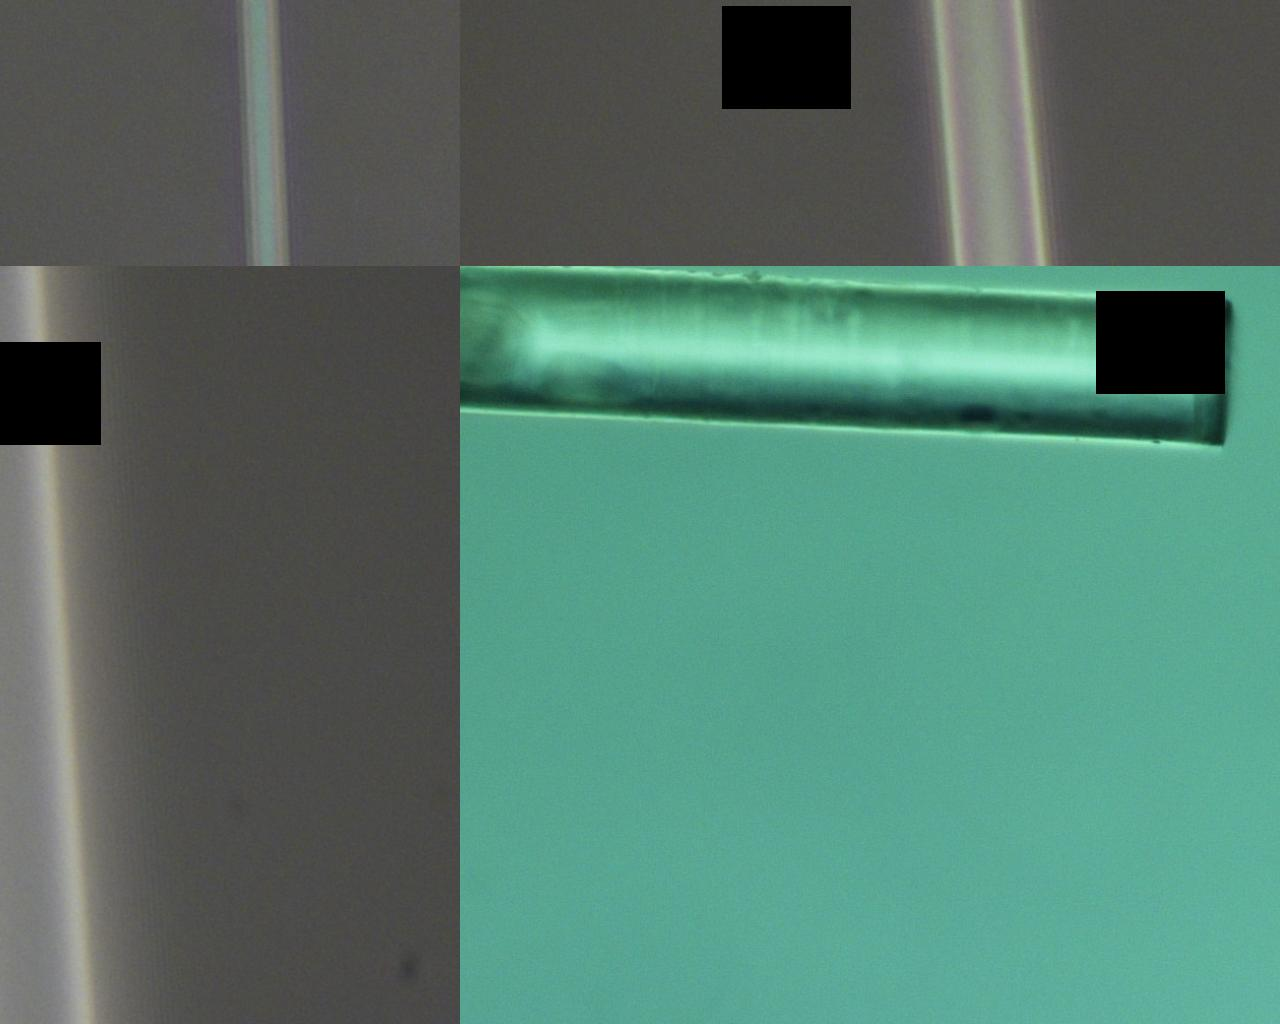fiber: (56, 0, 583, 501), (0, 808, 682, 987)
